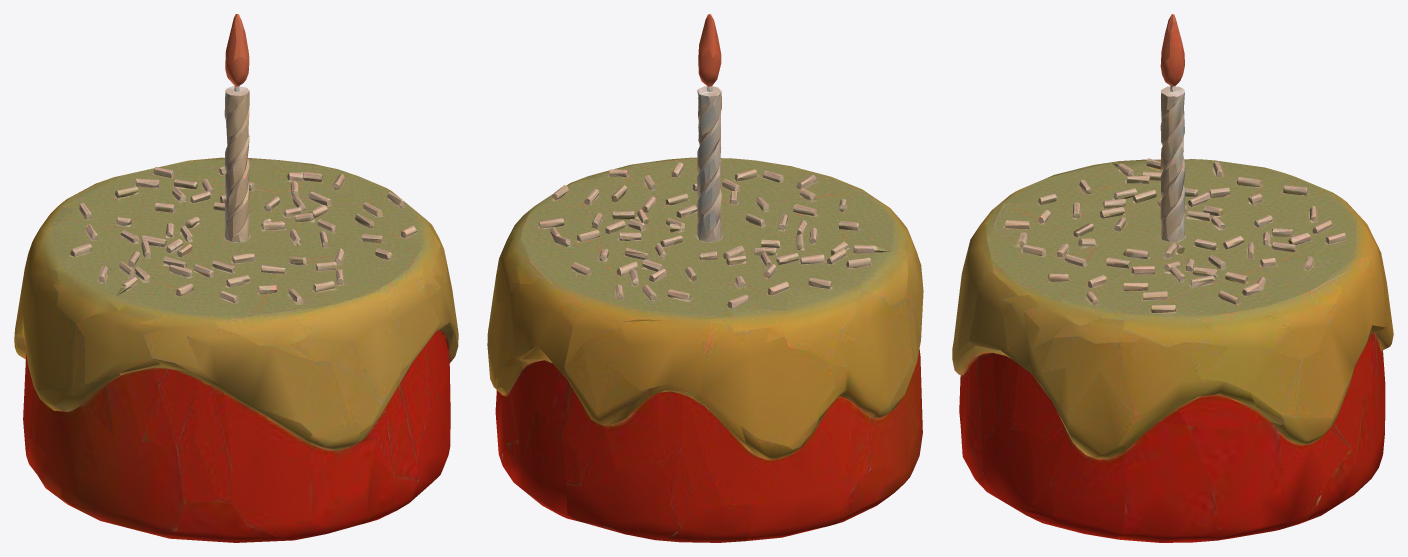
The model's file is cake.8d32d584.glb.
3 renders of one model, left to right at view 1: azimuth 30°, elevation 25°; view 2: azimuth 150°, elevation 25°; view 3: azimuth 270°, elevation 25°, orthographic.
Visible parts, largest first — view 1: output_unwrapped; view 2: output_unwrapped; view 3: output_unwrapped.
Boxes of the visible parts, x1=… form: output_unwrapped: x1=14, y1=14, x2=458, y2=542; output_unwrapped: x1=487, y1=14, x2=923, y2=542; output_unwrapped: x1=952, y1=14, x2=1393, y2=542.
Bounding box in the file's own units: 1.69 × 1.9 × 1.71.
Materials: 1 (1 with a texture image).
